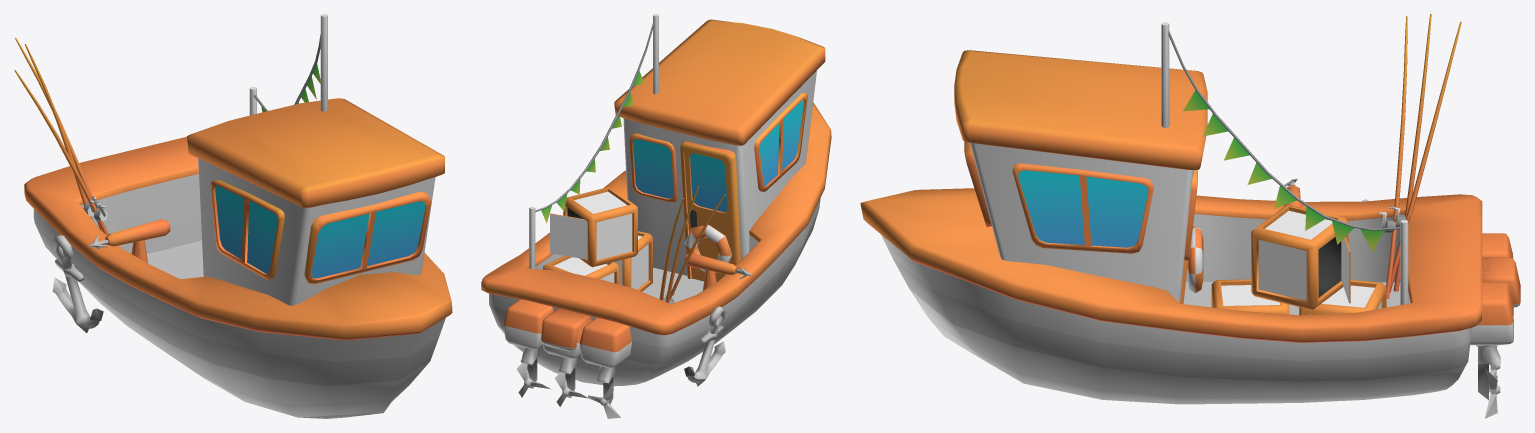
The model's file is Boat.fbx.
3 views of the same model, side by side, from view 1: azimuth 30°, elevation 25°; view 2: azimuth 150°, elevation 25°; view 3: azimuth 270°, elevation 25° (orthographic). The views are drawn at different scales.
Visible parts, largest first — view 1: Boat, FishingLvl2, FishingLvl1, FishingLvl3; view 2: Boat, InventoryLvl3, EngineLvl3, EngineLvl1, InventoryLvl2, InventoryLvl1, FishingLvl1, EngineLvl2, FishingLvl3, FishingLvl2; view 3: Boat, InventoryLvl3, EngineLvl3, InventoryLvl1, InventoryLvl2, FishingLvl2, FishingLvl3, EngineLvl1, FishingLvl1.
Boxes of the visible parts, x1=… form: Boat: x1=24, y1=14, x2=452, y2=418; FishingLvl2: x1=14, y1=70, x2=108, y2=235; FishingLvl1: x1=24, y1=44, x2=94, y2=219; FishingLvl3: x1=15, y1=38, x2=102, y2=231; Boat: x1=481, y1=14, x2=831, y2=386; InventoryLvl3: x1=550, y1=187, x2=637, y2=267; EngineLvl3: x1=503, y1=299, x2=631, y2=418; EngineLvl1: x1=541, y1=308, x2=590, y2=406; InventoryLvl2: x1=614, y1=231, x2=652, y2=291; InventoryLvl1: x1=543, y1=256, x2=618, y2=284; FishingLvl1: x1=665, y1=186, x2=698, y2=303; EngineLvl2: x1=542, y1=311, x2=591, y2=358; FishingLvl3: x1=659, y1=198, x2=683, y2=301; FishingLvl2: x1=669, y1=194, x2=725, y2=301; Boat: x1=860, y1=22, x2=1482, y2=404; InventoryLvl3: x1=1251, y1=204, x2=1350, y2=309; EngineLvl3: x1=1470, y1=233, x2=1513, y2=418; InventoryLvl1: x1=1299, y1=280, x2=1386, y2=315; InventoryLvl2: x1=1211, y1=279, x2=1289, y2=314; FishingLvl2: x1=1377, y1=16, x2=1407, y2=298; FishingLvl3: x1=1390, y1=21, x2=1461, y2=292; EngineLvl1: x1=1482, y1=257, x2=1520, y2=392; FishingLvl1: x1=1389, y1=14, x2=1431, y2=291.
Size of the model in its own units: 124 by 240 by 154.
